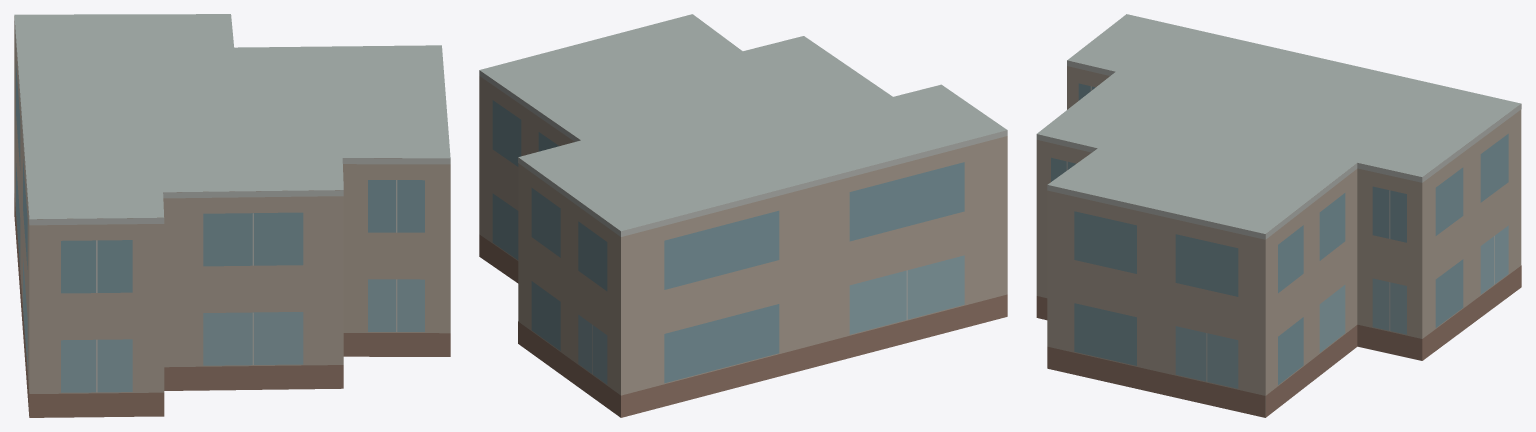
Rendered from survey-upis-32470298.glb.
3 views of the same model, side by side, from view 1: azimuth 30°, elevation 25°; view 2: azimuth 150°, elevation 25°; view 3: azimuth 270°, elevation 25° (orthographic). The views are drawn at different scales.
Parts seen in each view (by area): view 1: survey-upis-32470298.tmp; view 2: survey-upis-32470298.tmp; view 3: survey-upis-32470298.tmp.
Boxes of the visible parts, left/top/right/bottom form: survey-upis-32470298.tmp: left=14, top=14, right=450, bottom=417; survey-upis-32470298.tmp: left=479, top=14, right=1007, bottom=417; survey-upis-32470298.tmp: left=1036, top=14, right=1521, bottom=417.
Size of the model in its own units: 20.27 by 7.89 by 18.87.
